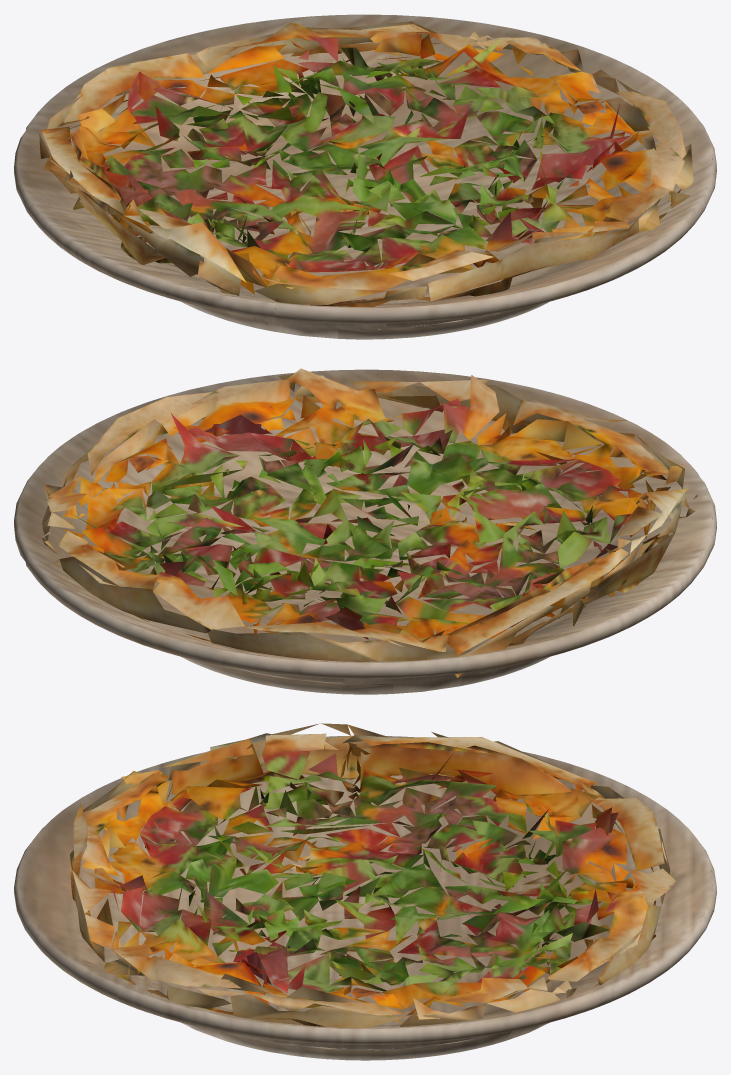
File: pizza.glb
3 views of the same model, one above another, from view 1: azimuth 30°, elevation 25°; view 2: azimuth 150°, elevation 25°; view 3: azimuth 270°, elevation 25° (orthographic).
Visible parts, largest first — view 1: pizza_pizza_0, Tarelka001__0; view 2: pizza_pizza_0, Tarelka001__0; view 3: pizza_pizza_0, Tarelka001__0.
Part boxes in pixels (left/top/right/bottom): pizza_pizza_0: left=39, top=21, right=693, bottom=308; Tarelka001__0: left=14, top=14, right=716, bottom=339; pizza_pizza_0: left=42, top=368, right=697, bottom=677; Tarelka001__0: left=14, top=369, right=716, bottom=694; pizza_pizza_0: left=69, top=723, right=675, bottom=1043; Tarelka001__0: left=14, top=735, right=716, bottom=1060.
Bounding box in the file's own units: 0.6036 × 0.1081 × 0.6036.
Materials: 2 (2 with a texture image).
